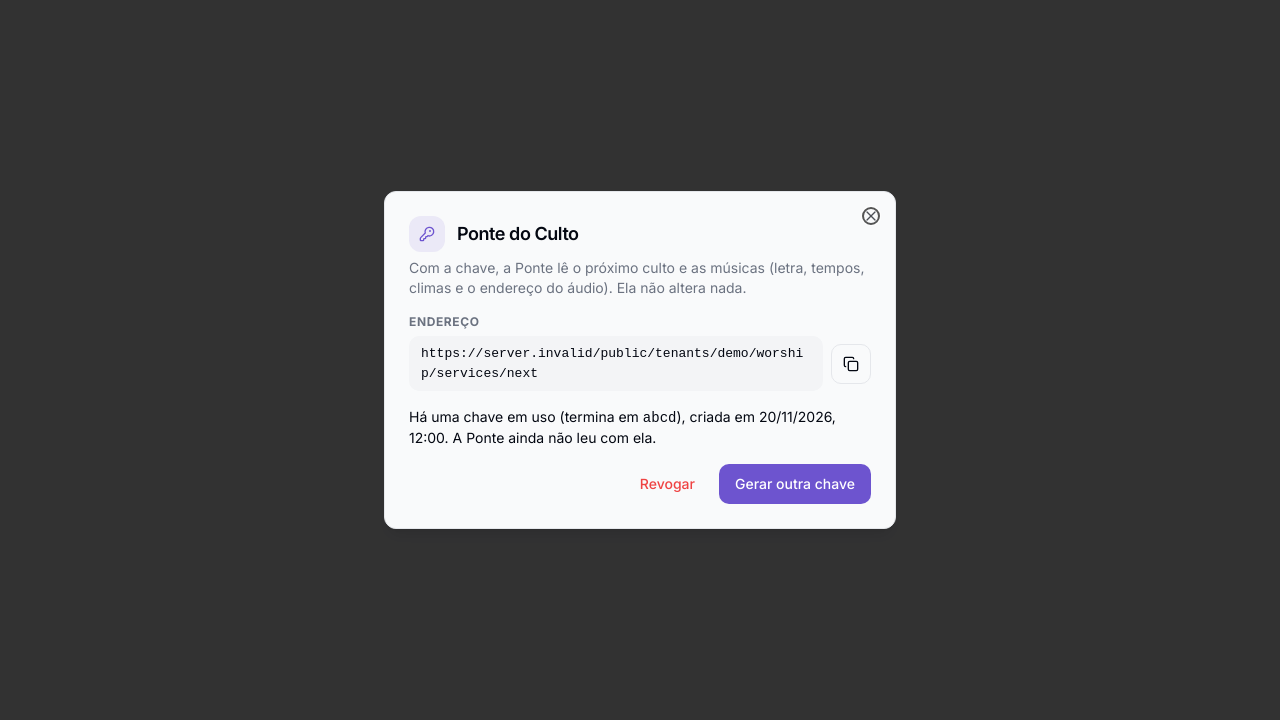
Test: PonteKeyDialog › com chave em uso: mostra só o final dela e pede confirmação antes de trocar ou revogar
Check: the text "termina em" shows "abcd", box [643,410,676,426]
Check: the text "ainda não leu com ela" is shown, box [453,429,656,446]
What coordinates should you click on to do the following:
click the button "Gerar outra chave"
I would click on:
 (795, 484)
Its box is [719,464,871,504].
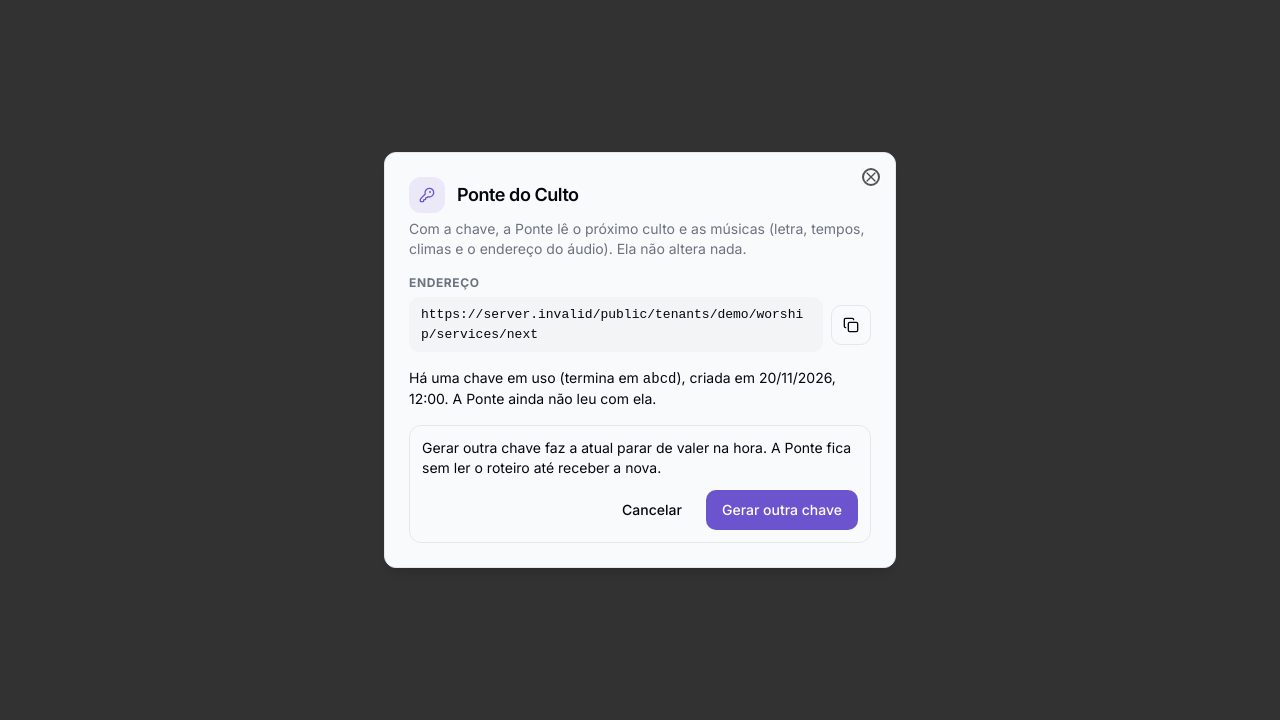
Check: the text "parar de valer na hora" is shown, box [422,439,851,476]
What coordinates should you click on to do the following:
click the button "Cancelar"
I would click on:
 (652, 510)
Its box is [606,490,698,530].
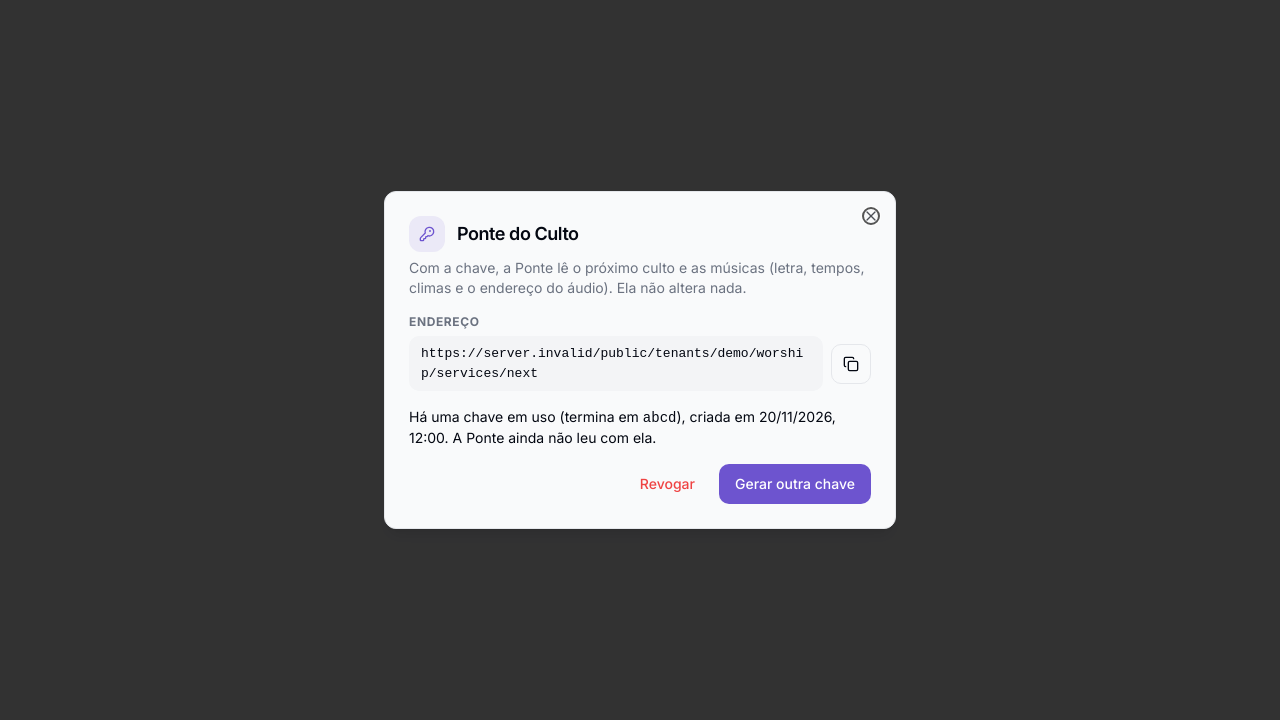
What coordinates should you click on to do the following:
click the button "Revogar"
I would click on:
 (667, 484)
Its box is [624,464,711,504].
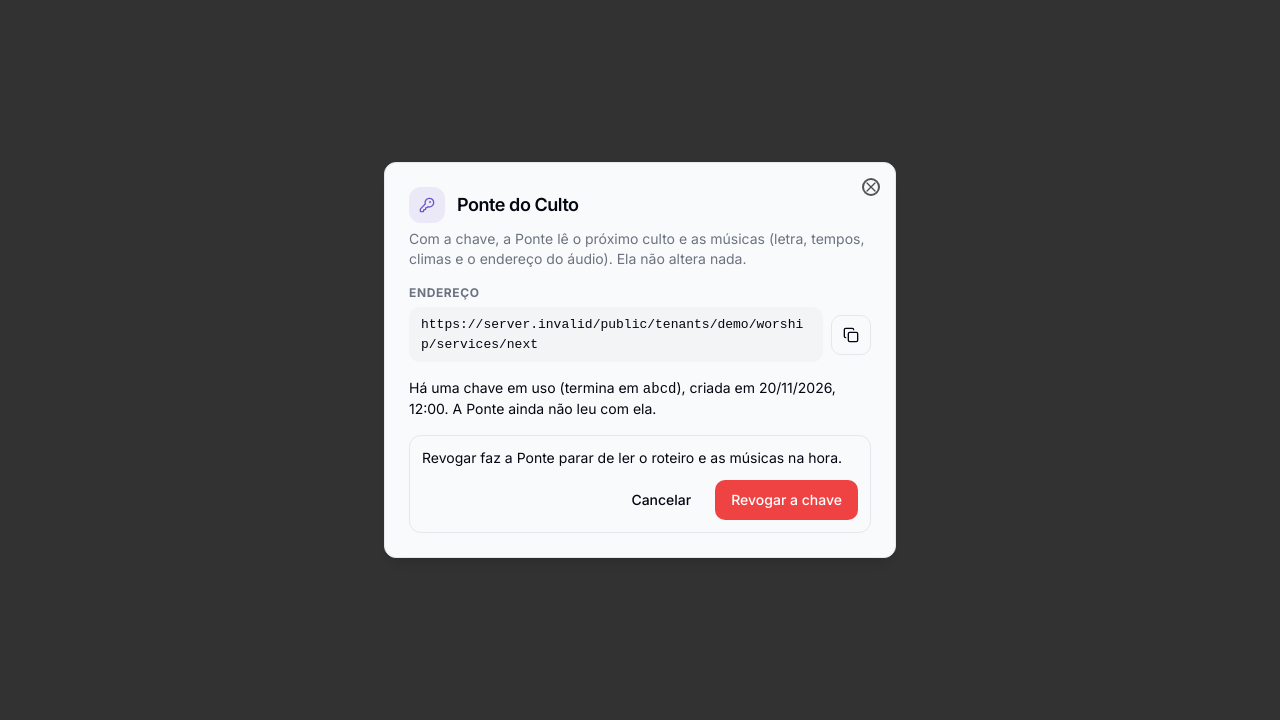
What coordinates should you click on to do the following:
click the button "Revogar a chave"
I would click on:
 (787, 500)
Its box is [715,480,858,520].
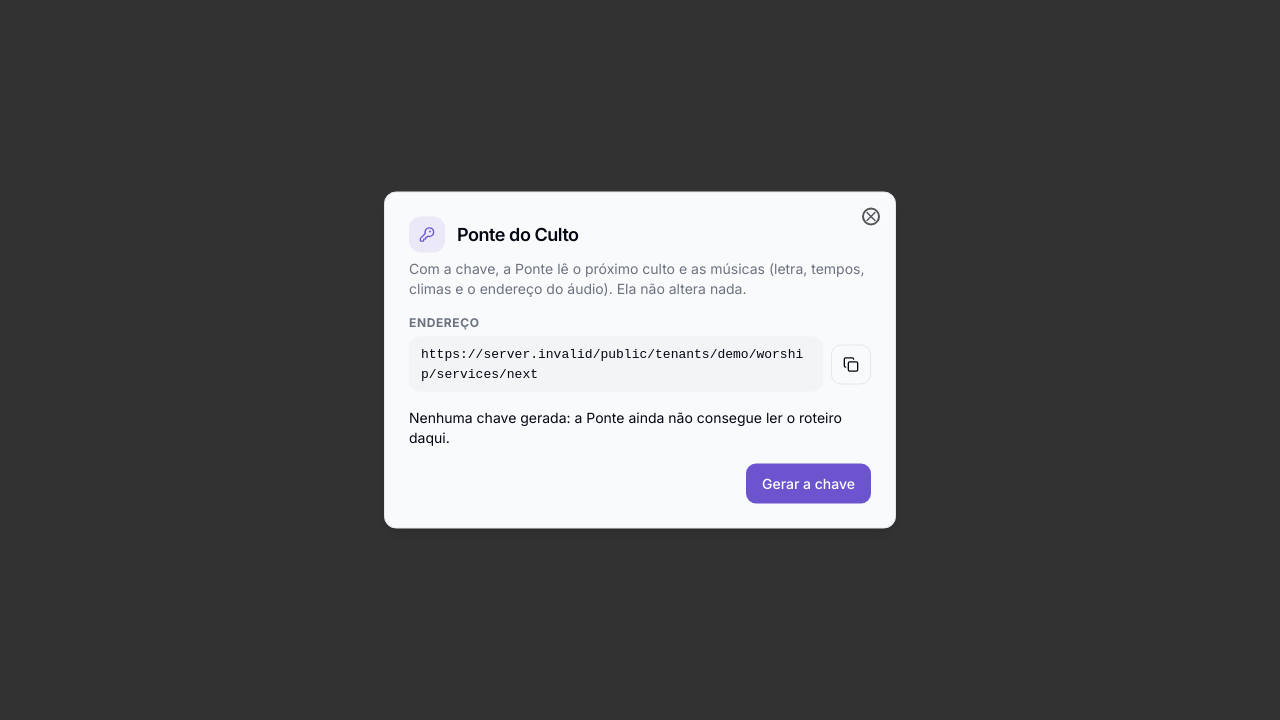
Check: the text "Nenhuma chave gerada" is shown, box [409,408,842,446]
